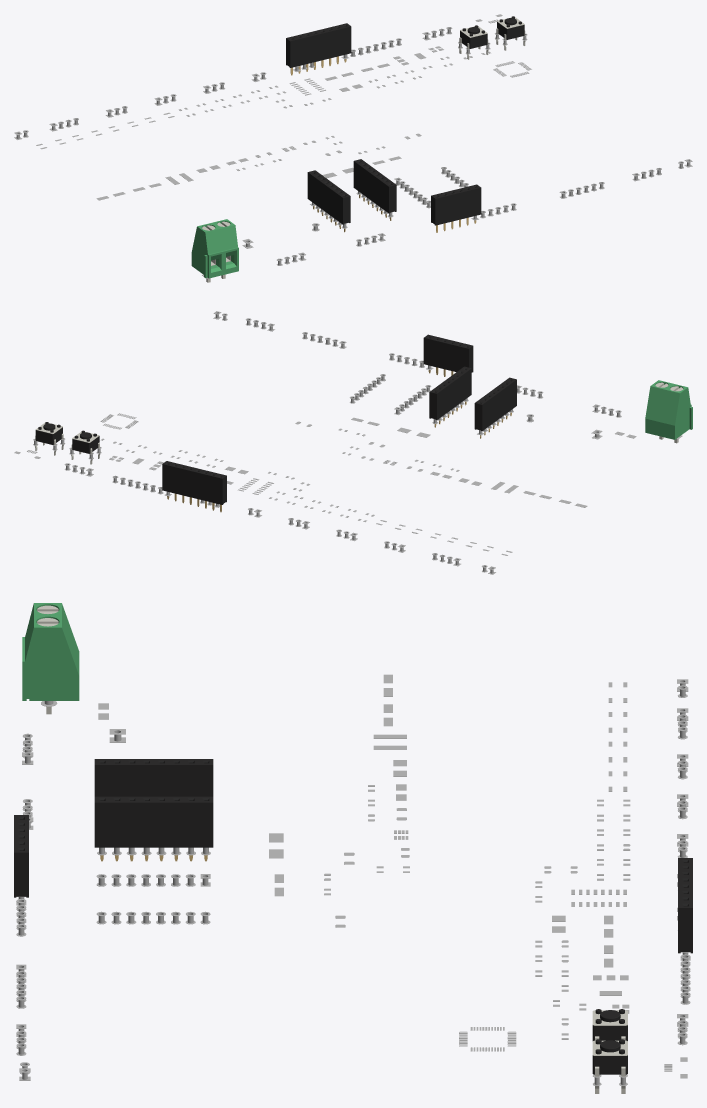
File: tht_pins_after.glb
The picture shows the model from 3 angles, top to bottom: view 1: azimuth 30°, elevation 25°; view 2: azimuth 150°, elevation 25°; view 3: azimuth 270°, elevation 25°; orthographic projection. The views are drawn at different scales.
Visible parts, largest first — view 1: =>[0:1:1:10], =>[0:1:1:3] (×3), =>[0:1:1:5], =>[0:1:1:7], =>[0:1:1:9] (×2); view 2: =>[0:1:1:10], =>[0:1:1:3] (×3), =>[0:1:1:5], =>[0:1:1:7], =>[0:1:1:9] (×2); view 3: =>[0:1:1:10], =>[0:1:1:3] (×3), =>[0:1:1:5], =>[0:1:1:9] (×2), =>[0:1:1:7].
Part boxes in pixels (box(x1,y1,x2,y2)): =>[0:1:1:10]: box(14, 14, 692, 278); =>[0:1:1:3] (×3): box(286, 23, 396, 232); =>[0:1:1:5]: box(191, 219, 238, 282); =>[0:1:1:7]: box(431, 184, 481, 232); =>[0:1:1:9] (×2): box(458, 16, 525, 59); =>[0:1:1:10]: box(14, 311, 682, 574); =>[0:1:1:3] (×3): box(162, 366, 516, 512); =>[0:1:1:5]: box(645, 380, 692, 443); =>[0:1:1:7]: box(423, 334, 473, 376); =>[0:1:1:9] (×2): box(35, 422, 100, 464); =>[0:1:1:10]: box(16, 674, 690, 1085); =>[0:1:1:3] (×3): box(94, 759, 692, 953); =>[0:1:1:5]: box(22, 603, 79, 714); =>[0:1:1:9] (×2): box(592, 1009, 627, 1093); =>[0:1:1:7]: box(14, 815, 28, 897).
Size of the model in its own units: 0.1633 by 0.0173 by 0.1161.
